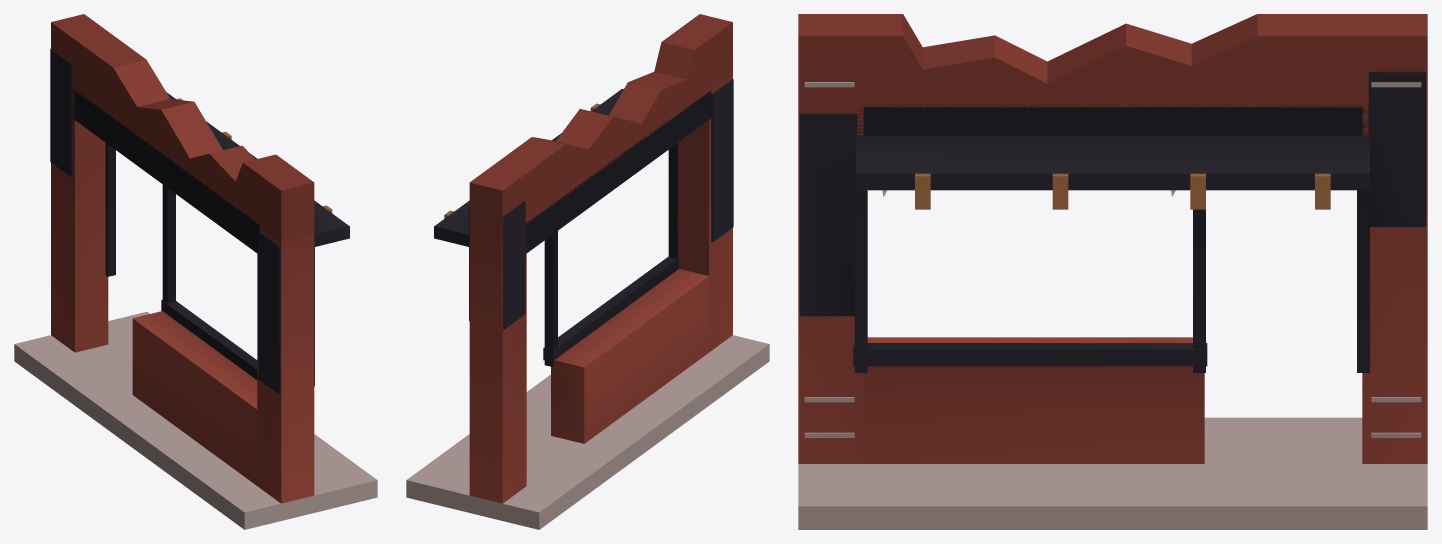
3 views of the same model, side by side, from view 1: azimuth 30°, elevation 25°; view 2: azimuth 150°, elevation 25°; view 3: azimuth 270°, elevation 25° (orthographic). The views are drawn at different scales.
Parts seen in each view (by area): view 1: body_pal_brick, body_pal_sidewalk, body_pal_uiDark; view 2: body_pal_brick, body_pal_sidewalk, body_pal_uiDark; view 3: body_pal_brick, body_pal_uiDark, body_pal_sidewalk, body_pal_woodWarm.
Boxes of the visible parts, x1,y1,x2,y2 form: body_pal_brick: [51, 14, 314, 503]; body_pal_sidewalk: [14, 311, 377, 529]; body_pal_uiDark: [50, 48, 349, 394]; body_pal_brick: [469, 14, 732, 503]; body_pal_sidewalk: [406, 335, 769, 529]; body_pal_uiDark: [434, 79, 733, 366]; body_pal_brick: [798, 14, 1427, 463]; body_pal_uiDark: [799, 71, 1426, 372]; body_pal_sidewalk: [798, 82, 1427, 529]; body_pal_woodWarm: [915, 173, 1330, 209].
Bounding box in the file's own units: 1.6 × 3.8 × 4.8.
